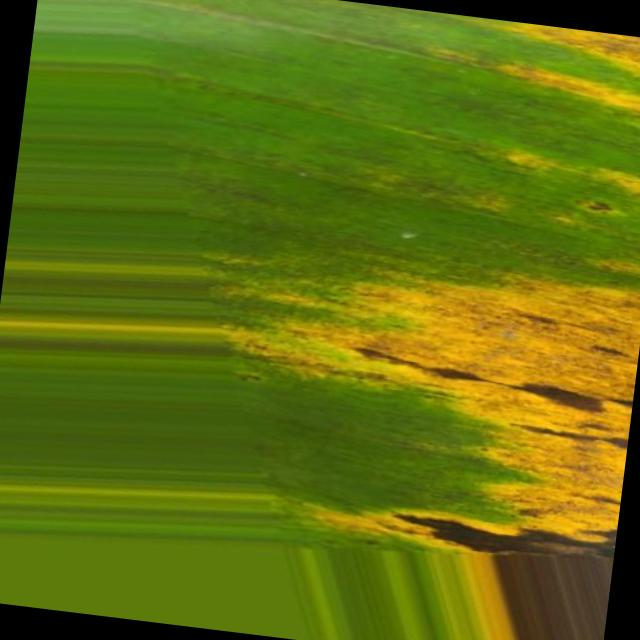Banana_Black_Sigatoka: (351, 61, 640, 585)
